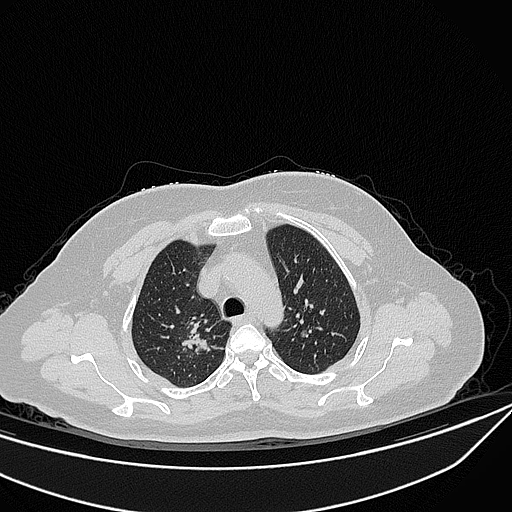nodule: (299, 329, 307, 337)
